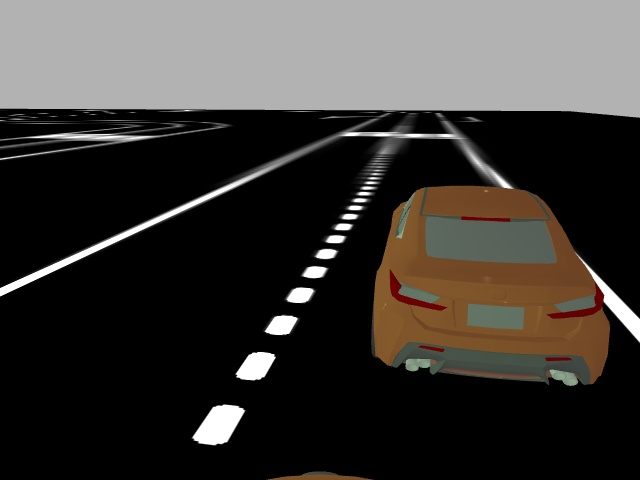obstacle_car: (367, 184, 618, 382)
